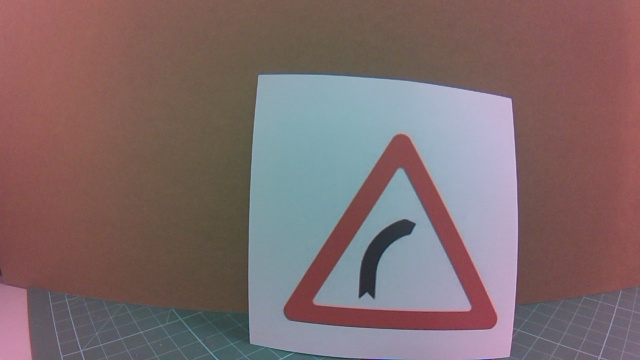right: (313, 160, 491, 336)
